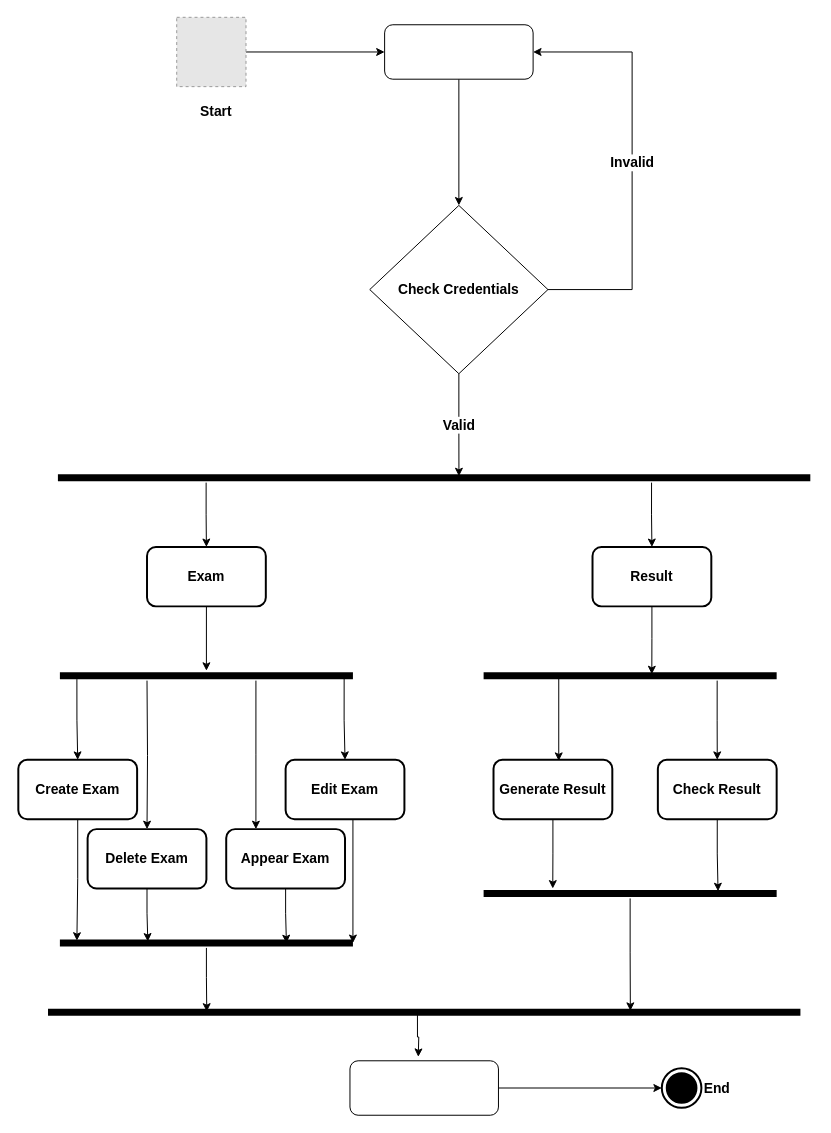
Some shapes in this 831 by 1133 pixel diagram are drawn without their labels. Grey dashed boxes stand in for pictures. Each missing label, with the centre of its shape:
Login: the point at 458,51
Logout: the point at 423,1087
